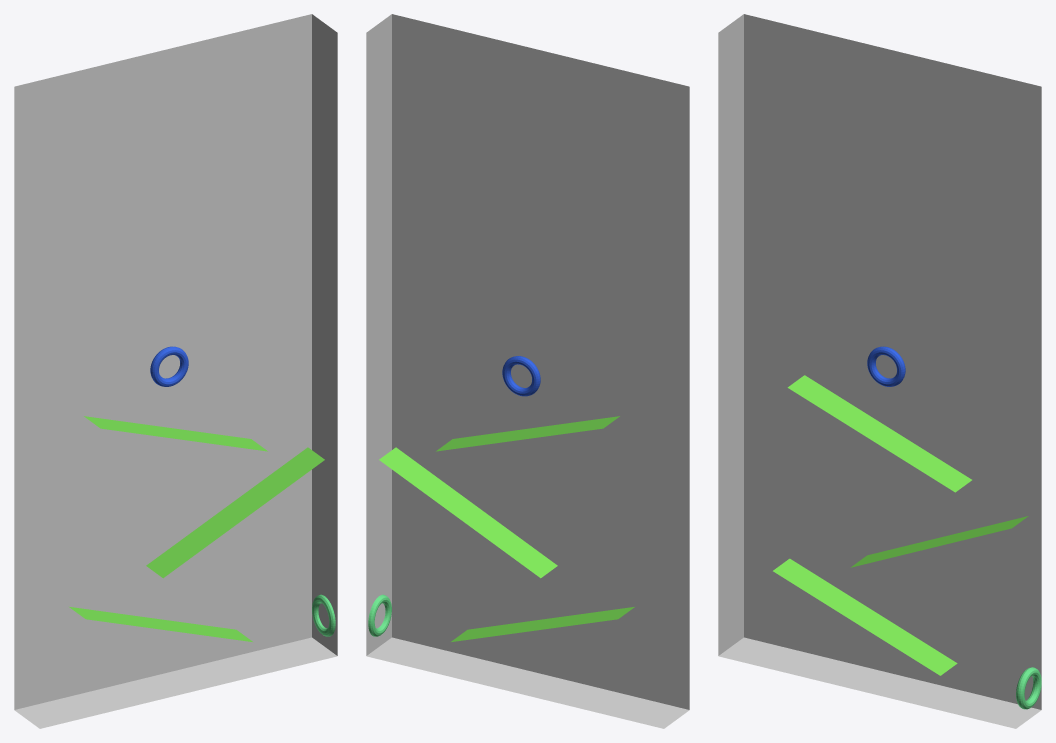
The model's file is Level2.glb.
3 renders of one model, left to right at view 1: azimuth 30°, elevation 25°; view 2: azimuth 150°, elevation 25°; view 3: azimuth 330°, elevation 25°, orthographic.
Parts seen in each view (by area): view 1: Plane.021, Plane.019, Plane.016, Plane.002, Plane.001, Plane.003, spawn, destination; view 2: Plane.020, Plane.019, Plane.016, Plane.002, Plane.001, Plane.003, spawn, destination; view 3: Plane.021, Plane.018, Plane.016, Plane.001, Plane.003, Plane.002, spawn, destination.
Part boxes in pixels (box(x1,y1,x2,y2)): Plane.021: box(14, 14, 311, 709); Plane.019: box(312, 14, 337, 655); Plane.016: box(14, 637, 337, 728); Plane.002: box(146, 447, 324, 578); Plane.001: box(84, 416, 267, 451); Plane.003: box(69, 607, 252, 641); spawn: box(150, 346, 188, 386); destination: box(312, 594, 335, 636); Plane.020: box(392, 14, 689, 709); Plane.019: box(366, 14, 391, 655); Plane.016: box(366, 637, 689, 728); Plane.002: box(379, 447, 557, 578); Plane.001: box(436, 416, 619, 451); Plane.003: box(451, 607, 634, 641); spawn: box(502, 356, 540, 396); destination: box(368, 594, 391, 636); Plane.021: box(744, 14, 1041, 709); Plane.018: box(718, 14, 743, 655); Plane.016: box(718, 637, 1041, 728); Plane.001: box(787, 375, 971, 492); Plane.003: box(773, 558, 957, 675); Plane.002: box(850, 516, 1028, 567); spawn: box(867, 346, 905, 386); destination: box(1016, 667, 1041, 709).
Size of the model in its own units: 20.25 by 40 by 3.
